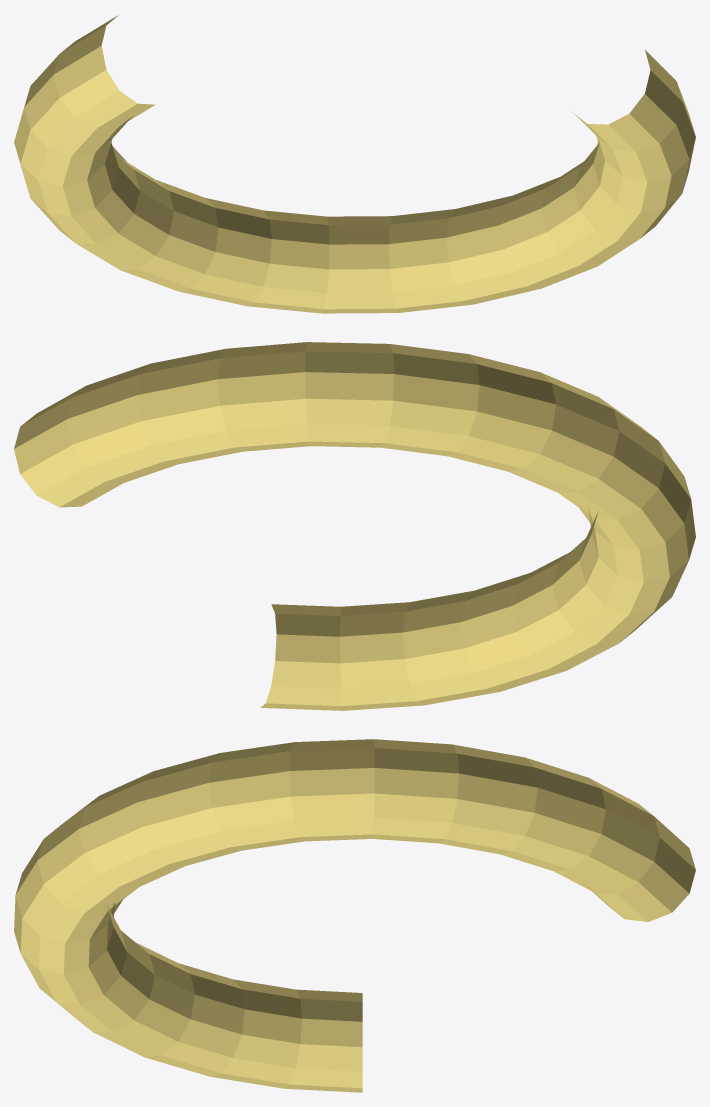
The model's file is nose-ring.glb.
The picture shows the model from 3 angles, top to bottom: view 1: azimuth 30°, elevation 25°; view 2: azimuth 150°, elevation 25°; view 3: azimuth 270°, elevation 25°; orthographic projection. The views are drawn at different scales.
Visible parts, largest first — view 1: nose-ring; view 2: nose-ring; view 3: nose-ring.
Boxes of the visible parts, box(x1,y1,x2,y2) form: nose-ring: box(14, 15, 695, 313); nose-ring: box(14, 342, 695, 710); nose-ring: box(14, 739, 695, 1092).
Bounding box in the file's own units: 0.028 × 0.004 × 0.0272.
